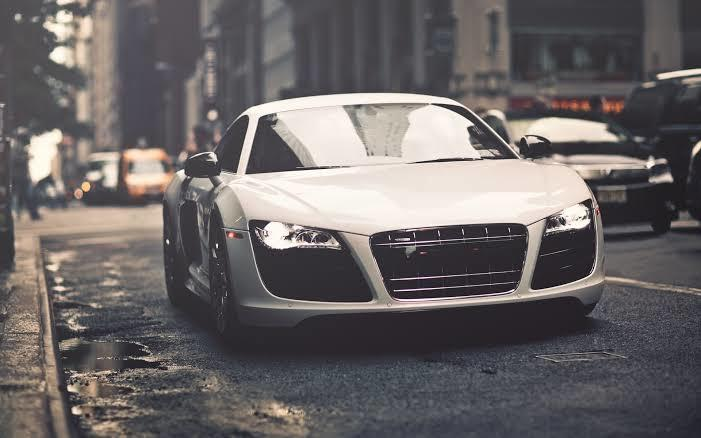audi: (154, 87, 611, 337)
